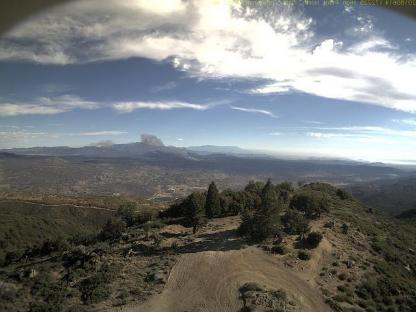smoke: (140, 132, 202, 162)
